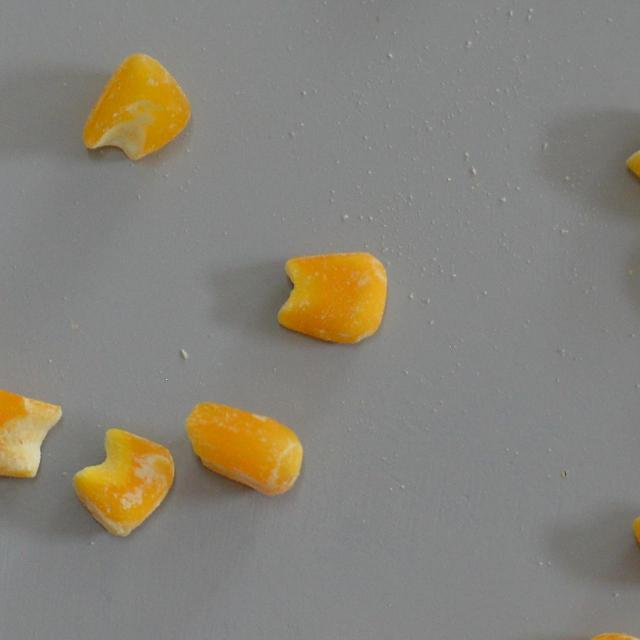no_canjicado: (624, 102, 640, 224)
pelicula: (80, 53, 192, 164), (182, 399, 304, 494), (71, 426, 174, 537), (276, 250, 387, 346), (0, 383, 64, 478), (629, 495, 640, 586)
